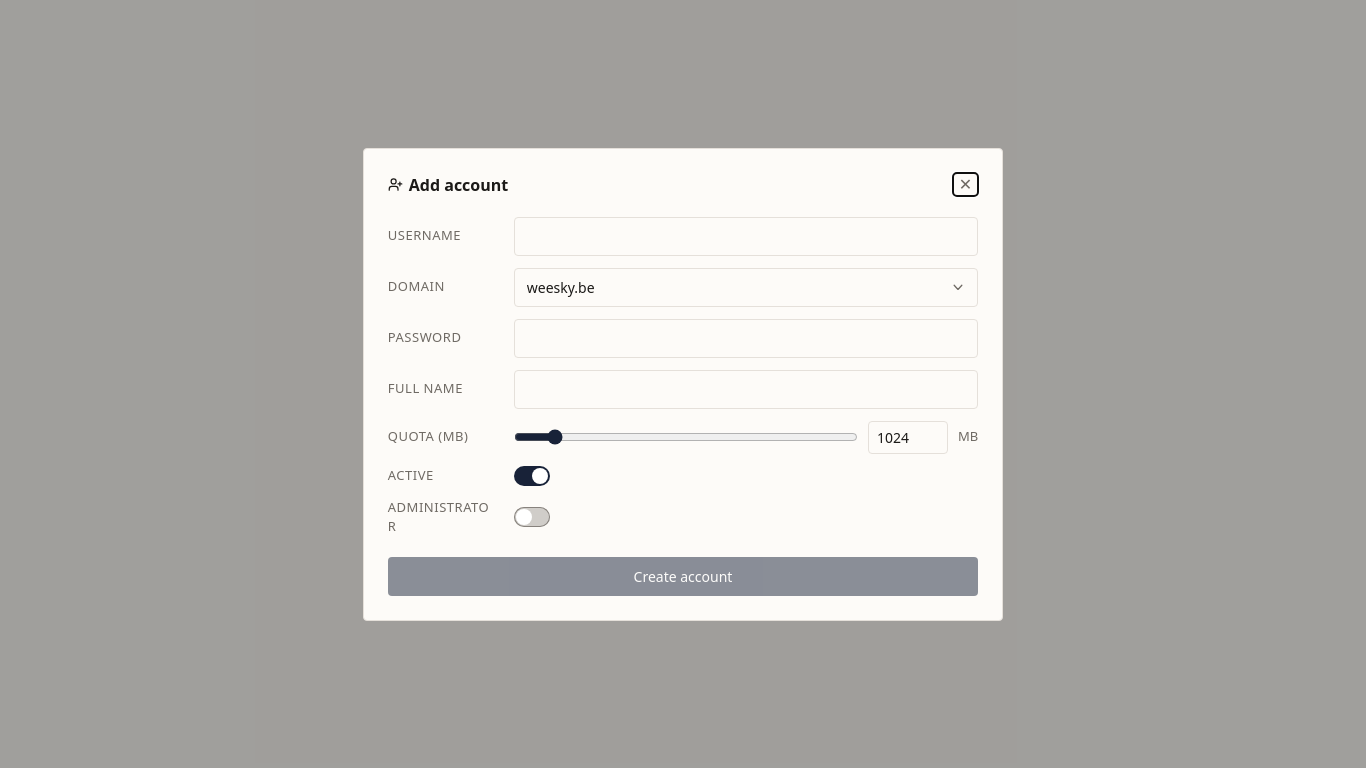
Test case: AddEditUserModal — toggles and quota › changing the quota number input updates the slider value
Step 1. Replace the text in the number field with "512" → (908, 437), box [868,420,948,454]
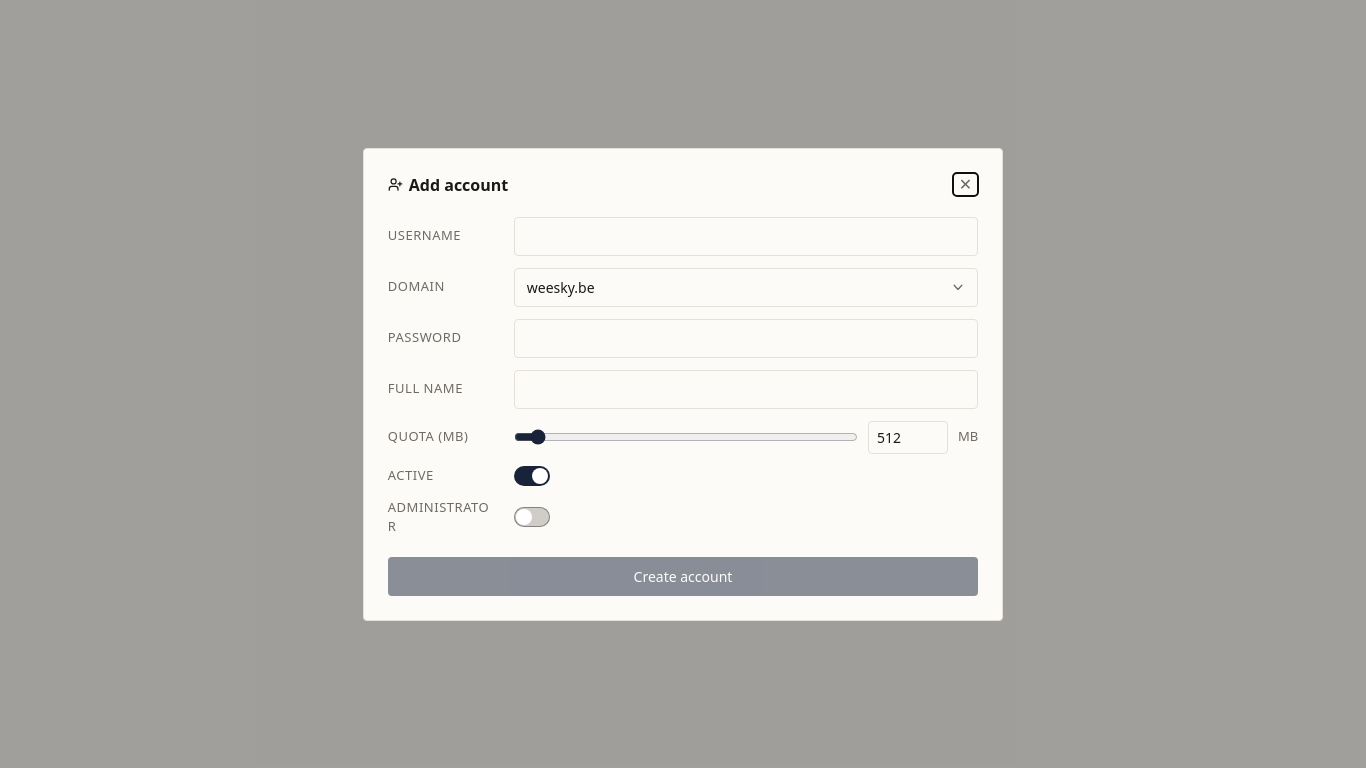
Expected: the slider holds "512", [514,429,858,445]
